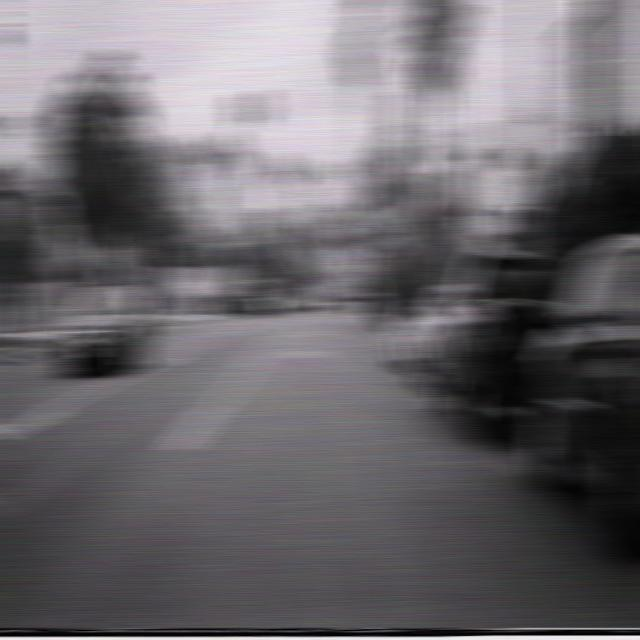pedestrianCrossing: (512, 154, 550, 217)
